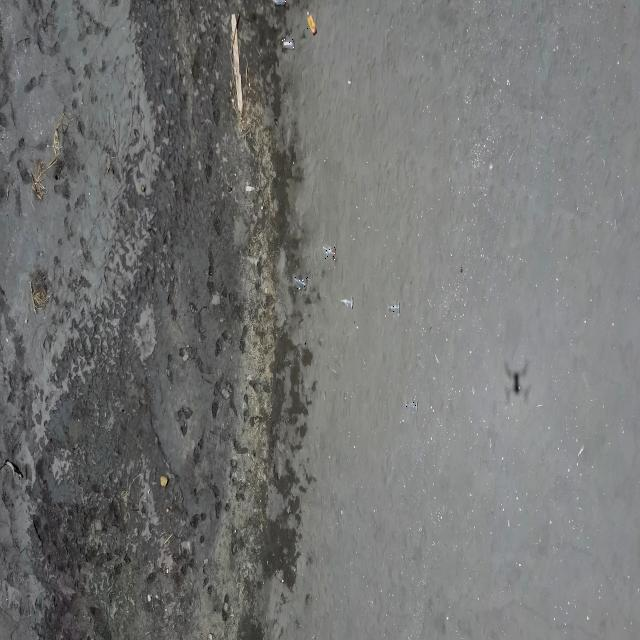plastic-bottle: (307, 12, 317, 36)
takeaway-cup: (322, 244, 336, 260), (340, 295, 354, 310), (295, 276, 308, 290), (282, 37, 296, 50), (388, 301, 400, 315), (406, 401, 418, 413), (274, 0, 286, 8)
